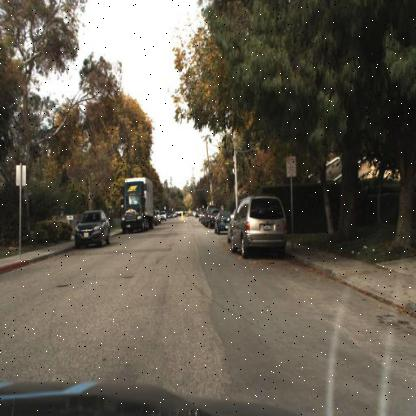car: (228, 190, 288, 260), (230, 196, 292, 260), (72, 208, 112, 250), (72, 209, 112, 245), (226, 207, 238, 244), (213, 208, 230, 234), (204, 203, 212, 228), (207, 209, 216, 230), (151, 209, 158, 227), (159, 209, 167, 222), (156, 210, 161, 226)
truck: (121, 171, 157, 240), (119, 175, 153, 234)
